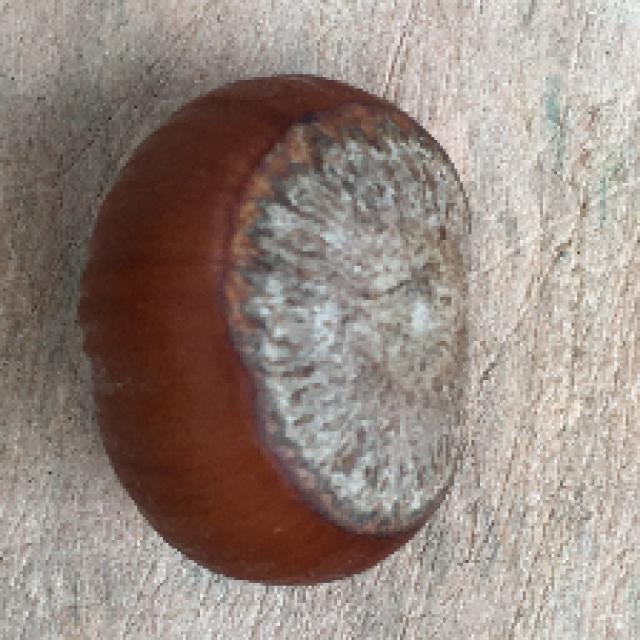hazelnut: (66, 70, 484, 596)
